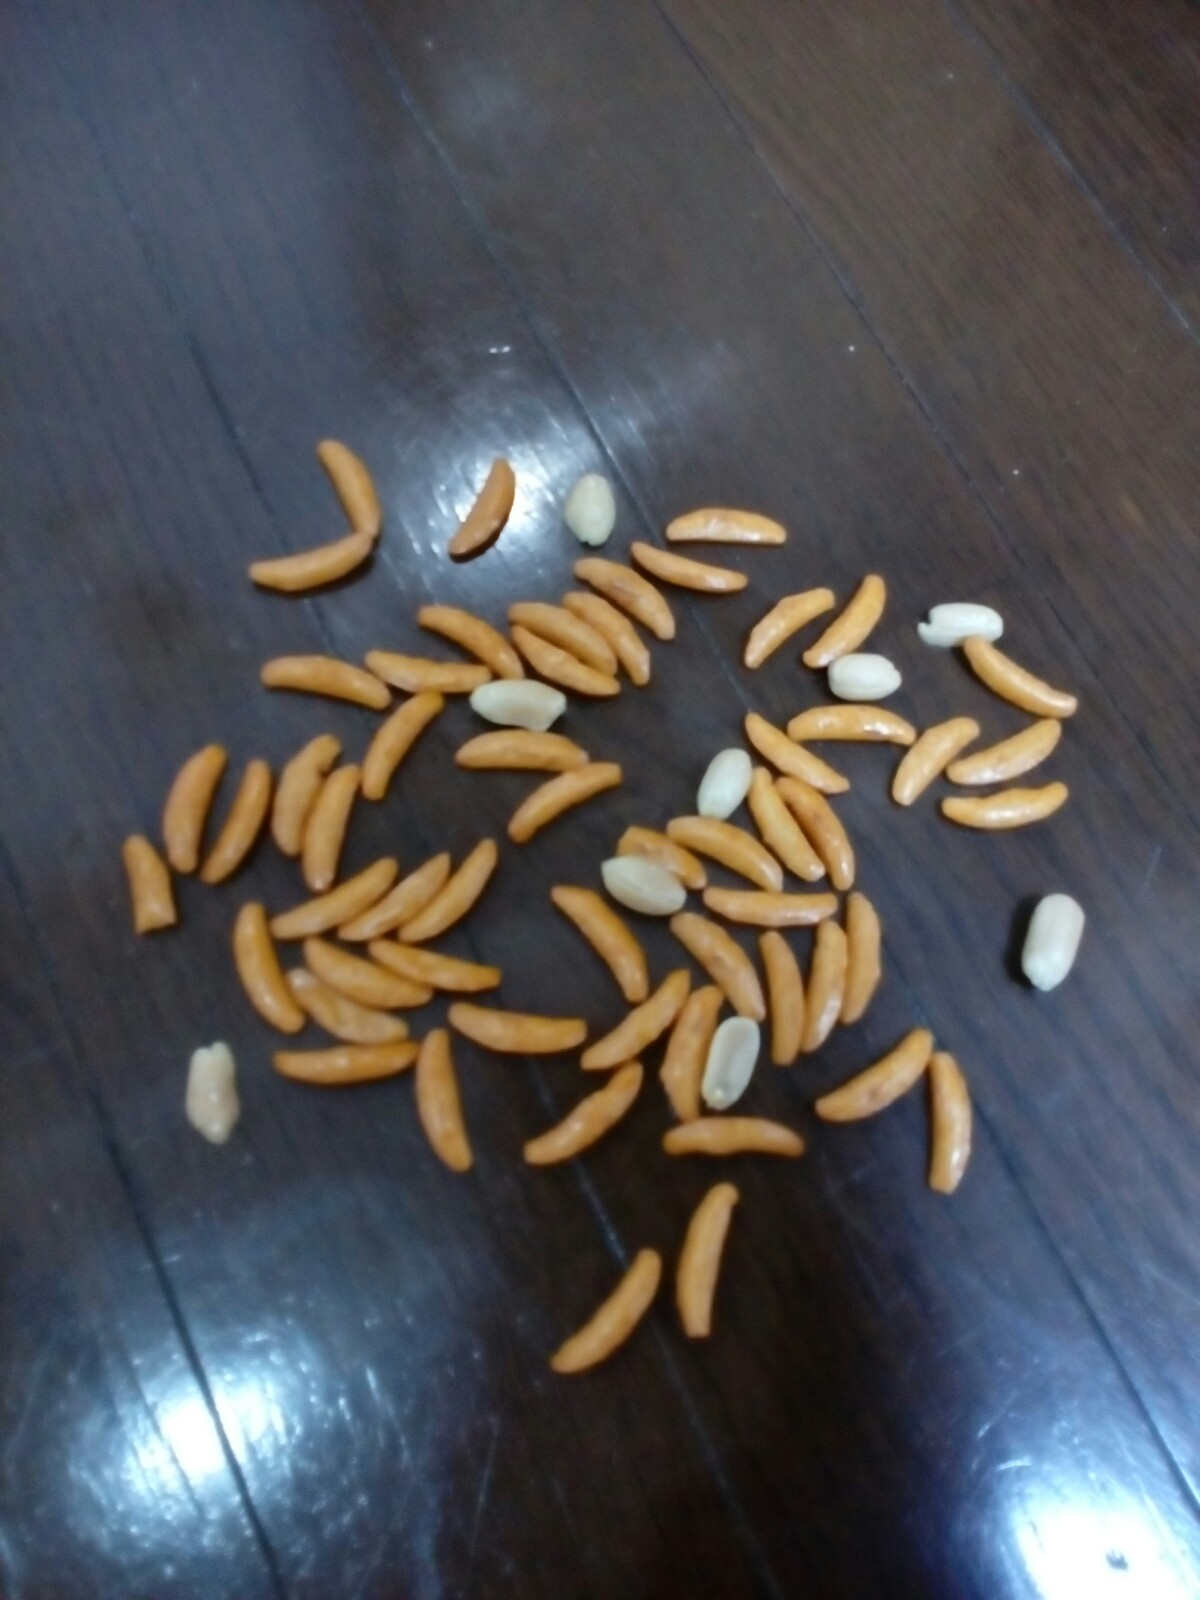peanut: (466, 665, 575, 745), (592, 842, 696, 923), (700, 1002, 769, 1119), (182, 1038, 248, 1150), (1020, 887, 1088, 995), (918, 591, 1016, 659), (824, 632, 908, 708), (689, 736, 758, 826), (560, 467, 621, 561)
